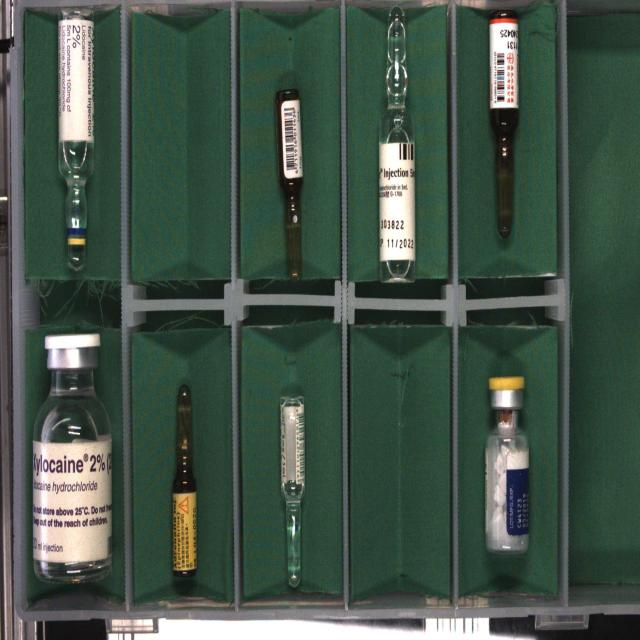Vials: (32, 333, 112, 582), (485, 377, 529, 553)
